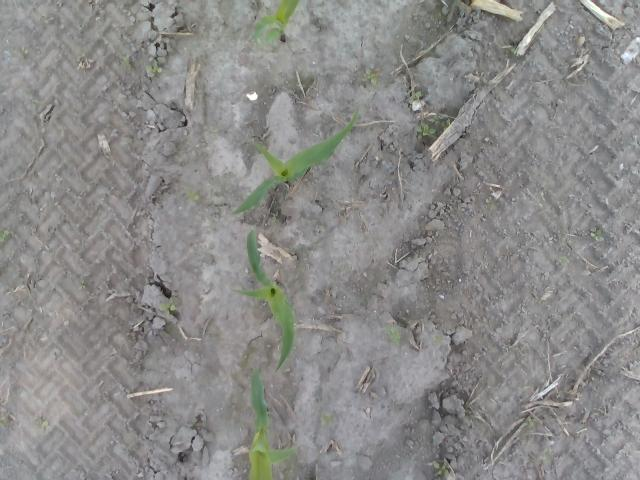Maize: (231, 107, 361, 216), (227, 230, 295, 374), (248, 368, 300, 480), (252, 1, 300, 44)
Weeds: (414, 122, 436, 142), (431, 113, 451, 133), (158, 296, 177, 316), (383, 325, 401, 346), (361, 69, 380, 86), (434, 460, 448, 478), (146, 61, 162, 76), (522, 418, 539, 432), (320, 412, 334, 427), (183, 188, 200, 200), (407, 92, 422, 105), (122, 57, 132, 70), (1, 229, 10, 243), (590, 228, 602, 238), (78, 278, 86, 292), (560, 254, 570, 262), (510, 46, 517, 56), (41, 420, 48, 428)
